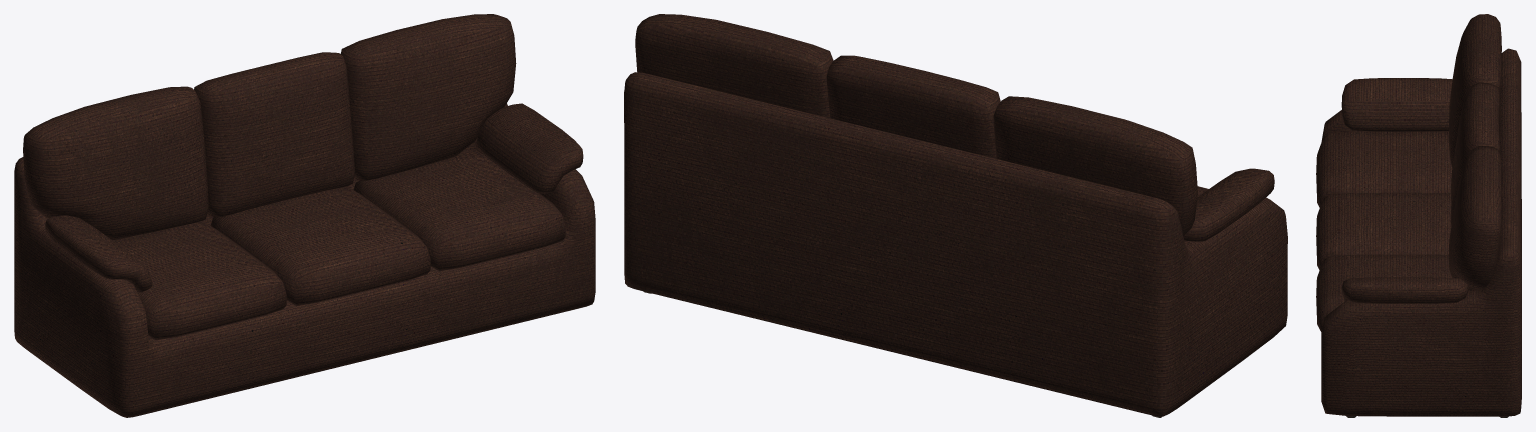
Rendered from sofa_1.glb.
The picture shows the model from 3 angles, left to right: view 1: azimuth 30°, elevation 25°; view 2: azimuth 150°, elevation 25°; view 3: azimuth 270°, elevation 25°; orthographic projection. The views are drawn at different scales.
Parts seen in each view (by area): view 1: sofa_1; view 2: sofa_1; view 3: sofa_1.
Boxes of the visible parts, left/top/right/bottom form: sofa_1: left=14, top=14, right=595, bottom=417; sofa_1: left=624, top=14, right=1287, bottom=417; sofa_1: left=1316, top=14, right=1521, bottom=417.
Bounding box in the file's own units: 2.62 × 1.23 × 1.08.
2 materials, 2 textured.
